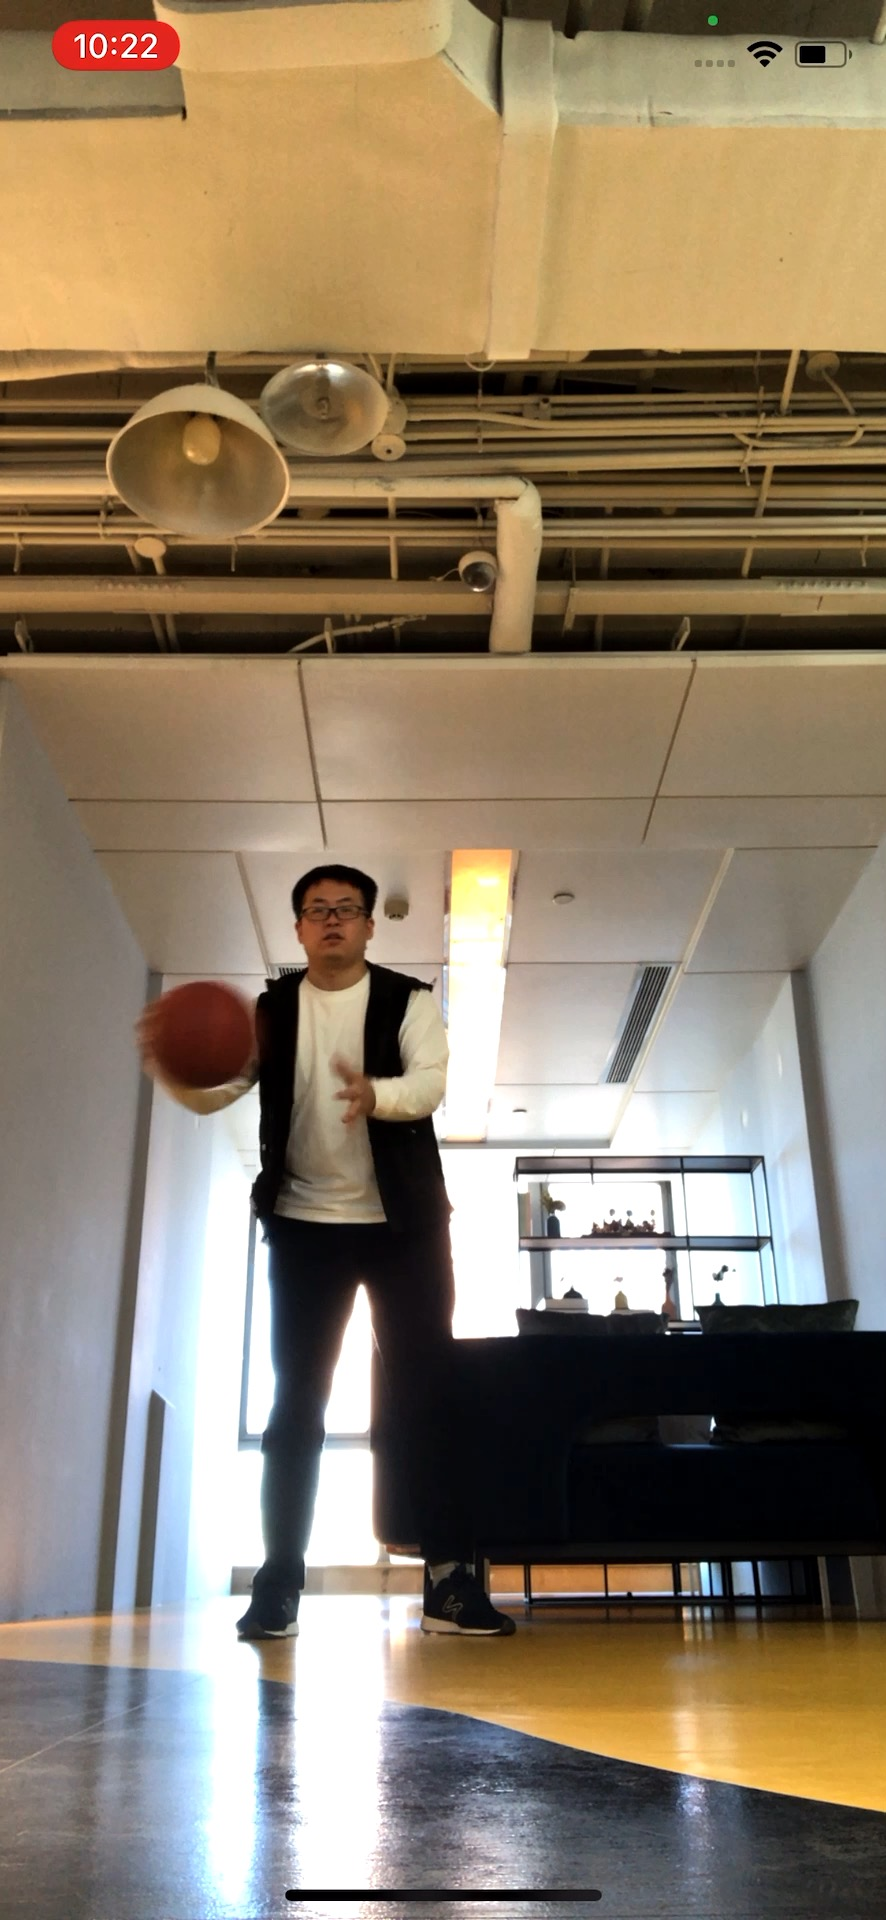ball: (153, 980, 255, 1096)
